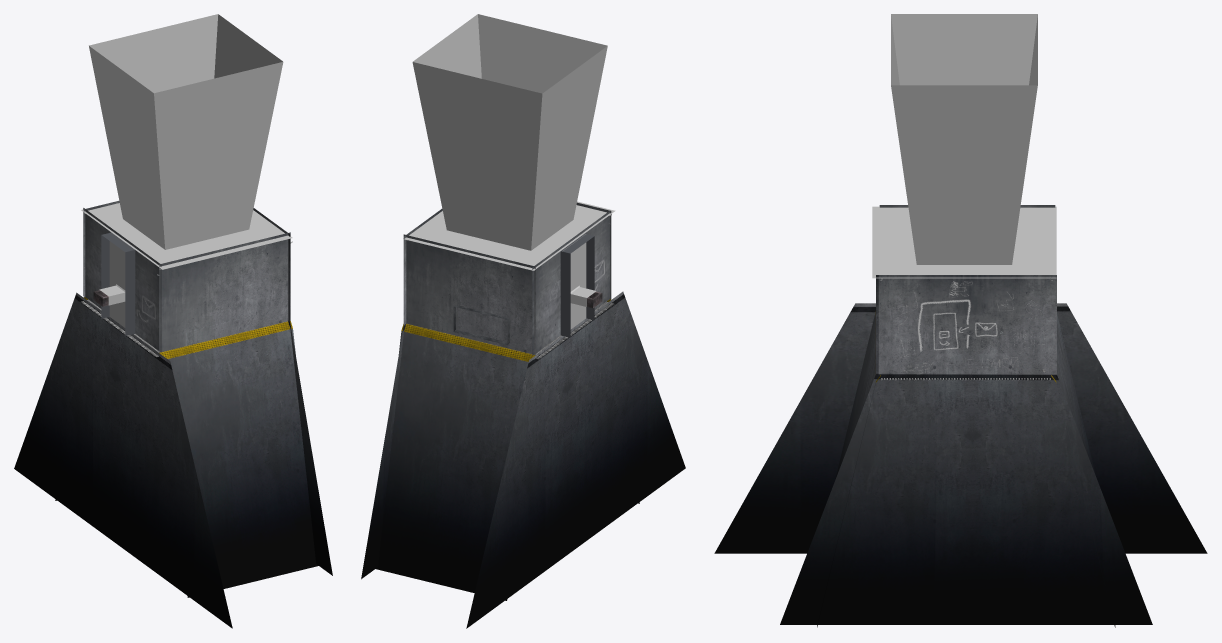
The model's file is menu_v0_2.fbx.
3 renders of one model, left to right at view 1: azimuth 30°, elevation 25°; view 2: azimuth 150°, elevation 25°; view 3: azimuth 270°, elevation 25°, orthographic. The views are drawn at different scales.
Parts seen in each view (by area): view 1: wall_l, roof, lower_door_wall, wall_door, wall_back, door; view 2: wall_r, roof, lower_door_wall, wall_door, wall_back, door, table; view 3: wall_back, roof, lower_door_wall, wall_l, wall_r.
Boxes of the visible parts, box(x1,y1,x2,y2) form: wall_l: box(159, 232, 318, 597); roof: box(81, 14, 292, 269); lower_door_wall: box(14, 292, 232, 628); wall_door: box(83, 208, 161, 352); wall_back: box(253, 208, 332, 575); door: box(99, 233, 132, 327); wall_r: box(376, 234, 535, 600); roof: box(403, 14, 615, 270); lower_door_wall: box(466, 291, 685, 628); wall_door: box(532, 211, 609, 355); wall_back: box(361, 209, 442, 579); door: box(562, 234, 596, 329); table: box(453, 305, 509, 345); wall_back: box(780, 275, 1152, 624); roof: box(872, 14, 1056, 278); lower_door_wall: box(714, 303, 1207, 553); wall_l: box(817, 311, 880, 627); wall_r: box(1051, 314, 1115, 627).
Bounding box in the file's own units: 495 × 1435 × 1184.
